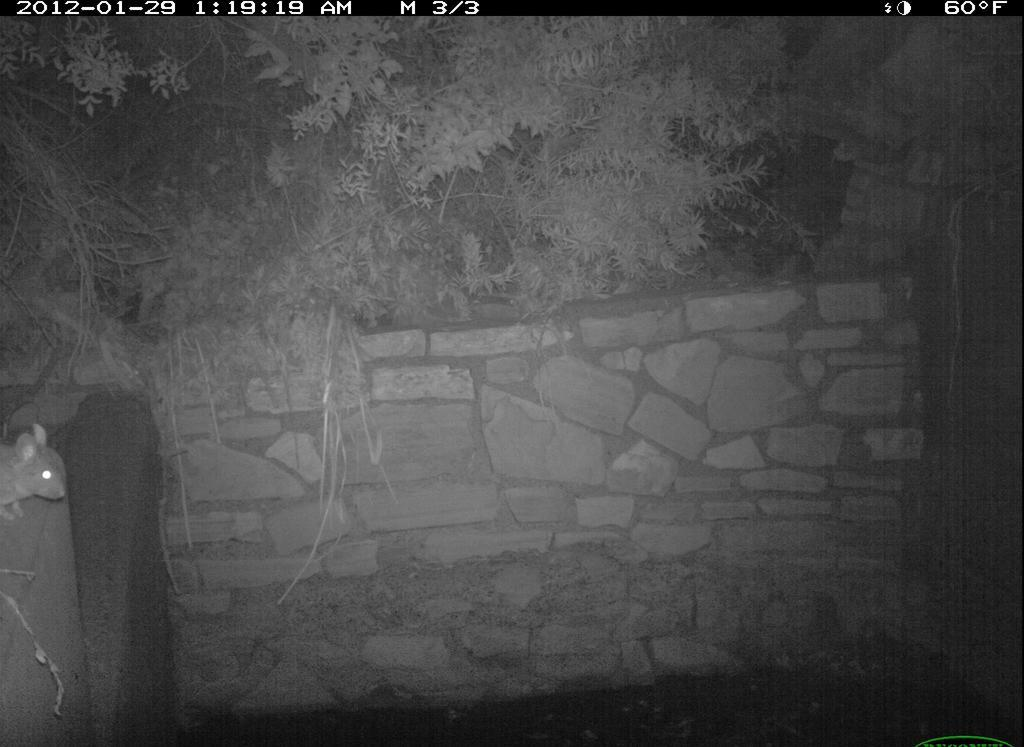rodent: (2, 420, 71, 518)
